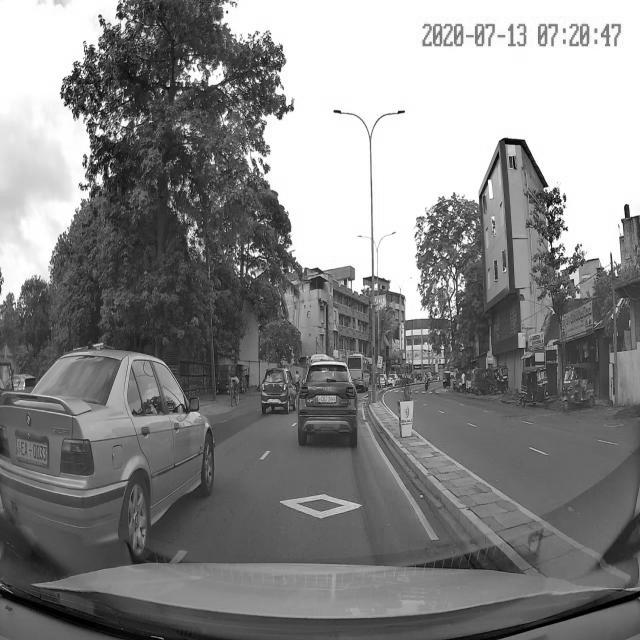diamond: (218, 491, 426, 520)
